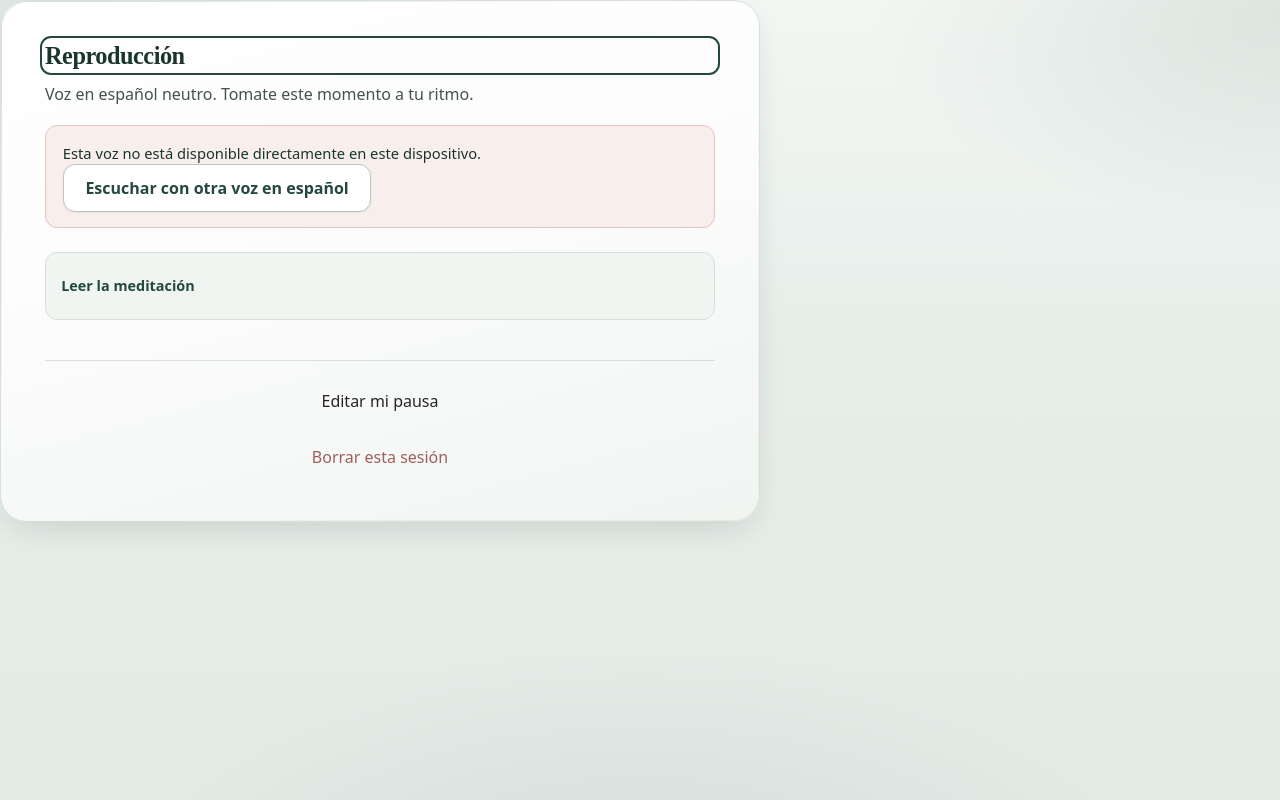
Scenario: PlaybackStep — voz sencilla y consentimiento › says the device voice is still loading instead of unsupported while voices load
What coordinates should you click on to do the following:
click the button "Escuchar con otra voz en español"
I would click on:
 (217, 188)
Its box is [63,164,371,212].
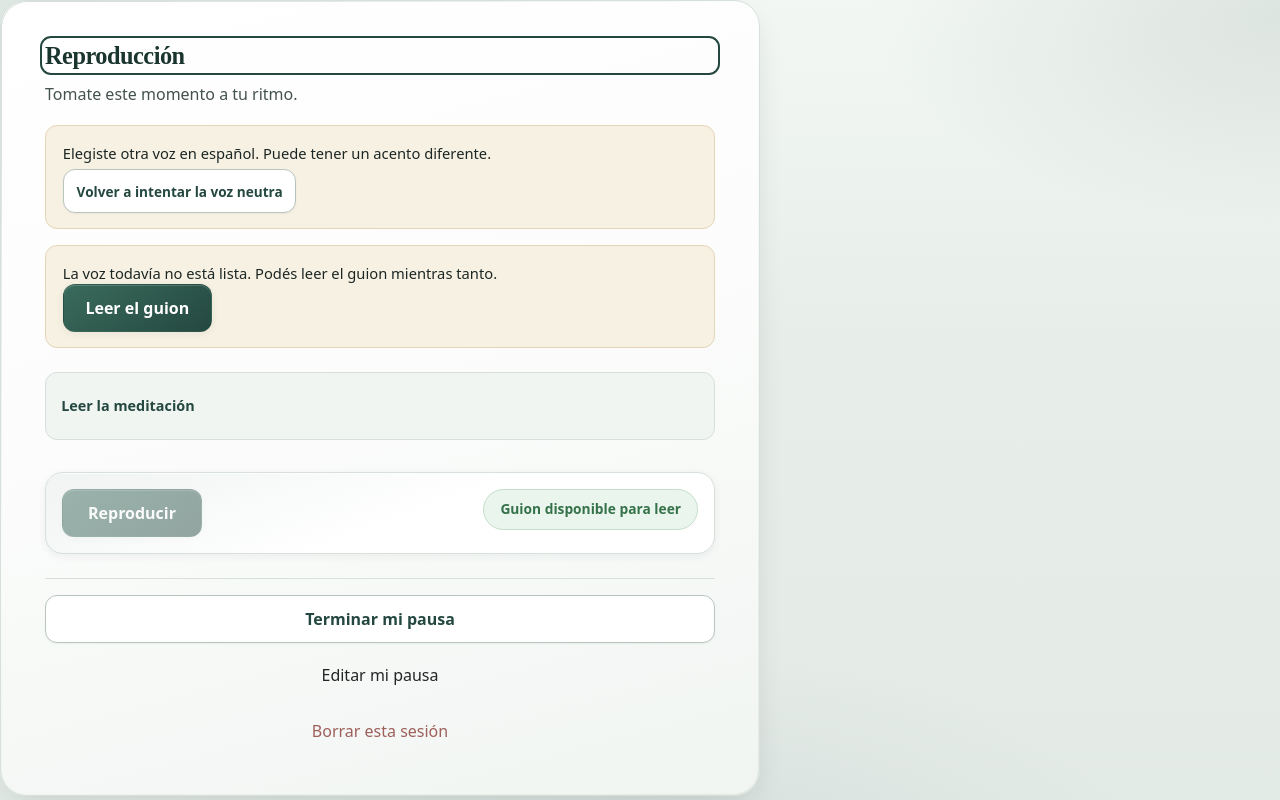
Check: the text "La voz todavía no está lista" is shown, box [63,263,497,283]
